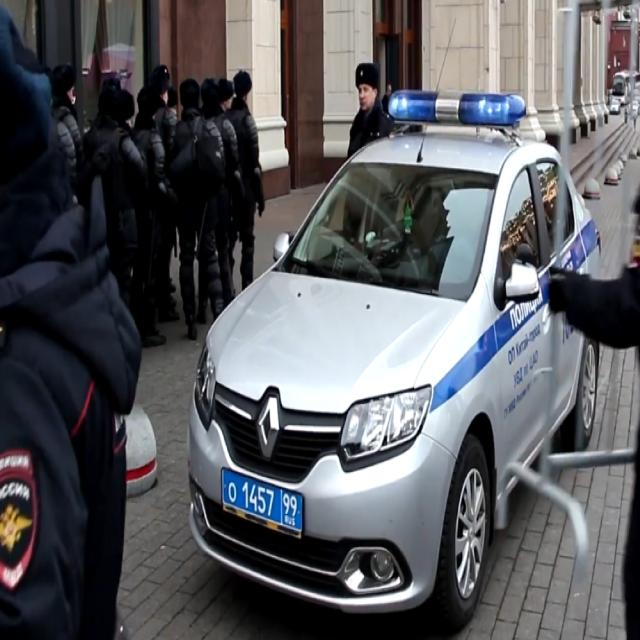police car: (182, 82, 608, 640)
